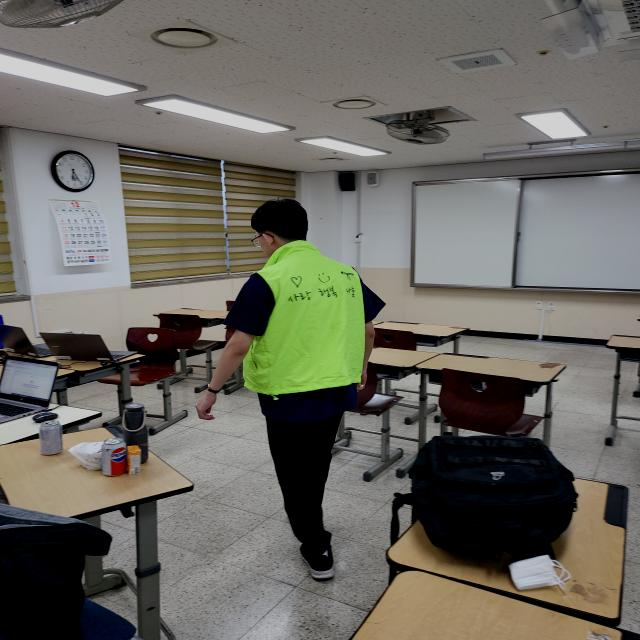weston_spy: (231, 253, 381, 399)
